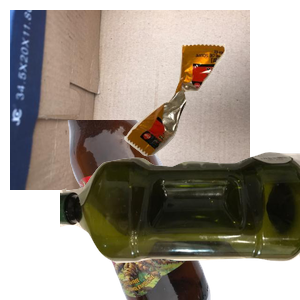cardboard: (10, 10, 250, 190)
glass: (65, 120, 300, 300)
plastic: (60, 149, 300, 300)
trash: (122, 41, 300, 190)
